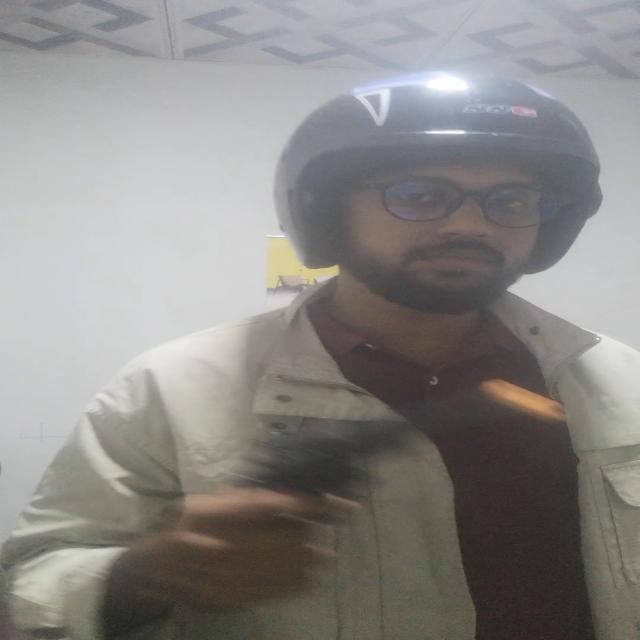Gun_Holder: (168, 380, 590, 586)
Helmet_Wearer: (256, 66, 616, 291)
Jacket_Wearer: (10, 287, 639, 640)
Person: (10, 70, 640, 640)
